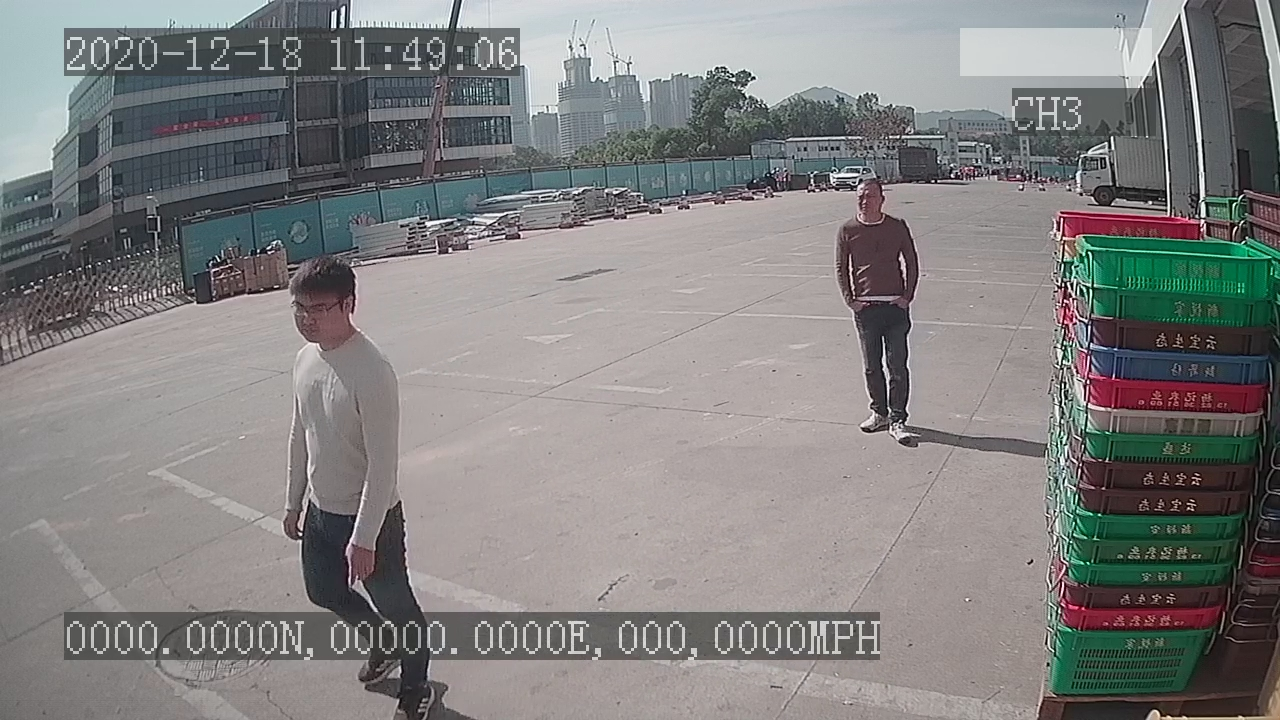person: (831, 174, 924, 447)
